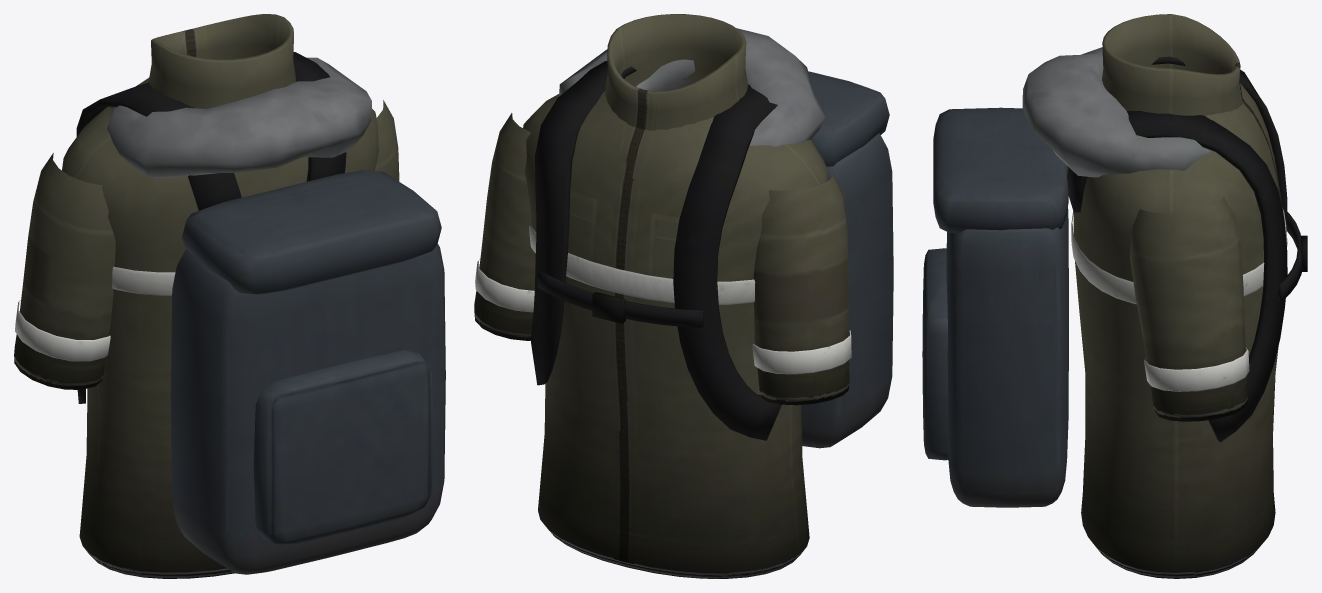
Rendered from avatar_body.glb.
3 views of the same model, side by side, from view 1: azimuth 30°, elevation 25°; view 2: azimuth 150°, elevation 25°; view 3: azimuth 270°, elevation 25° (orthographic). The views are drawn at different scales.
Parts seen in each view (by area): view 1: body, tint; view 2: body, tint; view 3: body, tint.
Part boxes in pixels (x1,y1,x2,y2): body: (14,14,445,578); tint: (15,266,175,361); body: (474,14,893,578); tint: (475,225,851,374); body: (922,14,1307,578); tint: (1071,208,1287,391).
Bounding box in the file's own units: 0.4826 × 0.622 × 0.4515.
2 materials, 2 textured.
